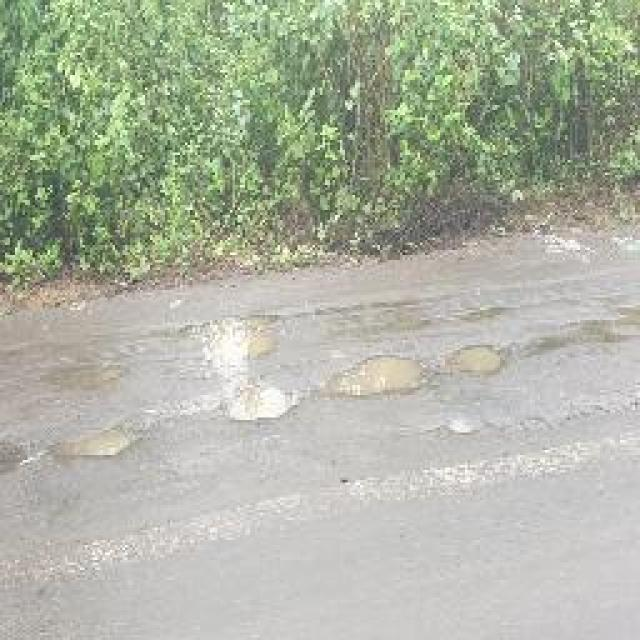puddle: (200, 304, 284, 372), (333, 352, 435, 406), (233, 382, 306, 426)
